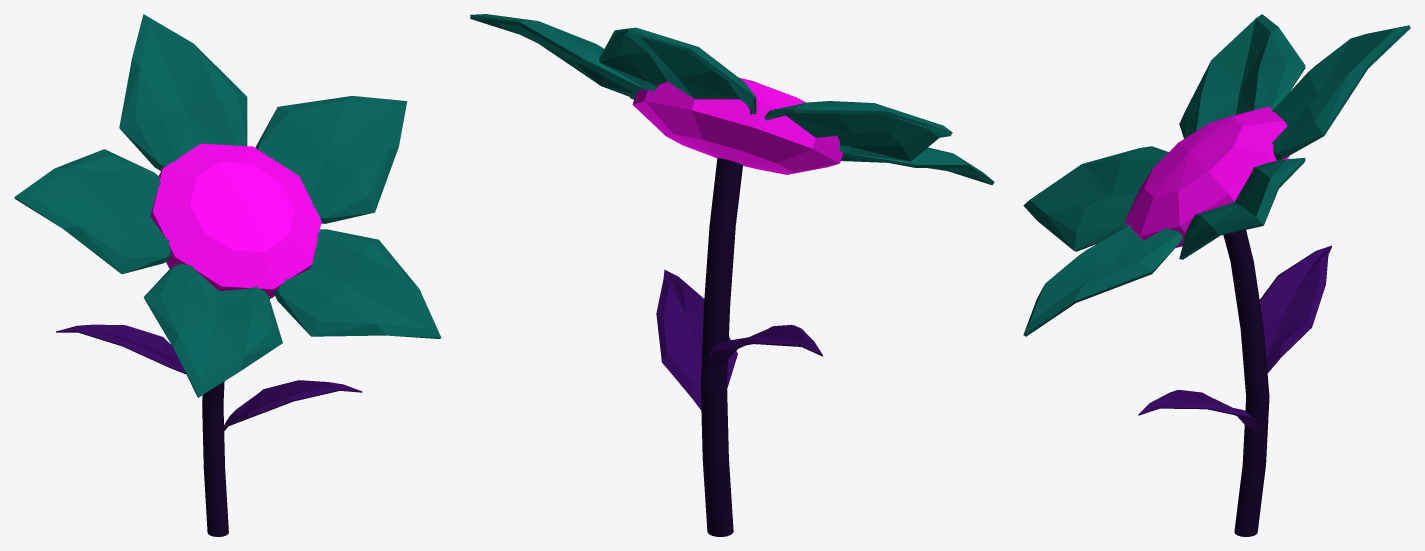
The model's file is Flower_1.fbx.
The picture shows the model from 3 angles, left to right: view 1: azimuth 30°, elevation 25°; view 2: azimuth 150°, elevation 25°; view 3: azimuth 270°, elevation 25°; orthographic projection. The views are drawn at different scales.
Parts seen in each view (by area): view 1: Flower_1; view 2: Flower_1; view 3: Flower_1.
Part boxes in pixels (box(x1,y1,x2,y2)): Flower_1: box(14, 14, 441, 536); Flower_1: box(470, 14, 994, 536); Flower_1: box(1023, 14, 1410, 536).
Bounding box in the file's own units: 51.45 × 58.04 × 40.19.
